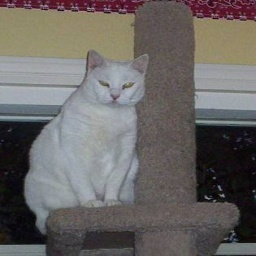cat: (24, 51, 147, 228)
